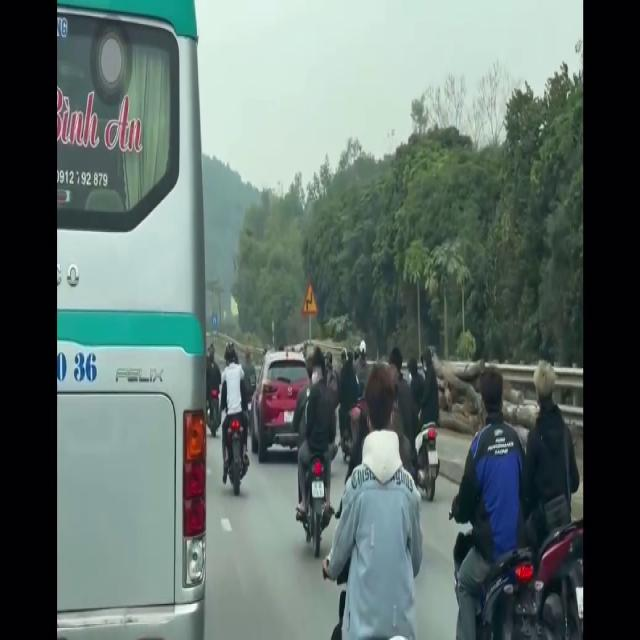no_helmet: (532, 357, 556, 422), (480, 362, 502, 430)
